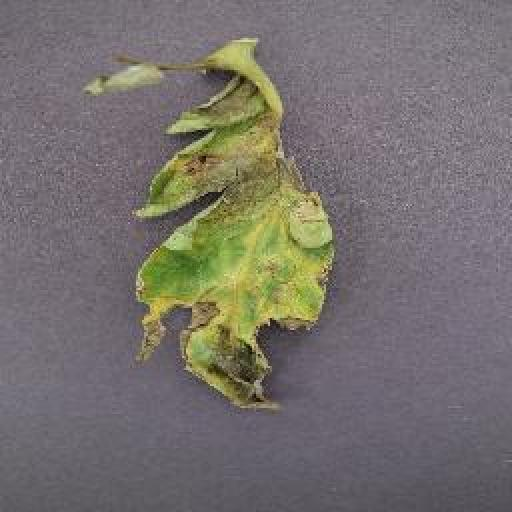Late Blight: (84, 32, 332, 407)
